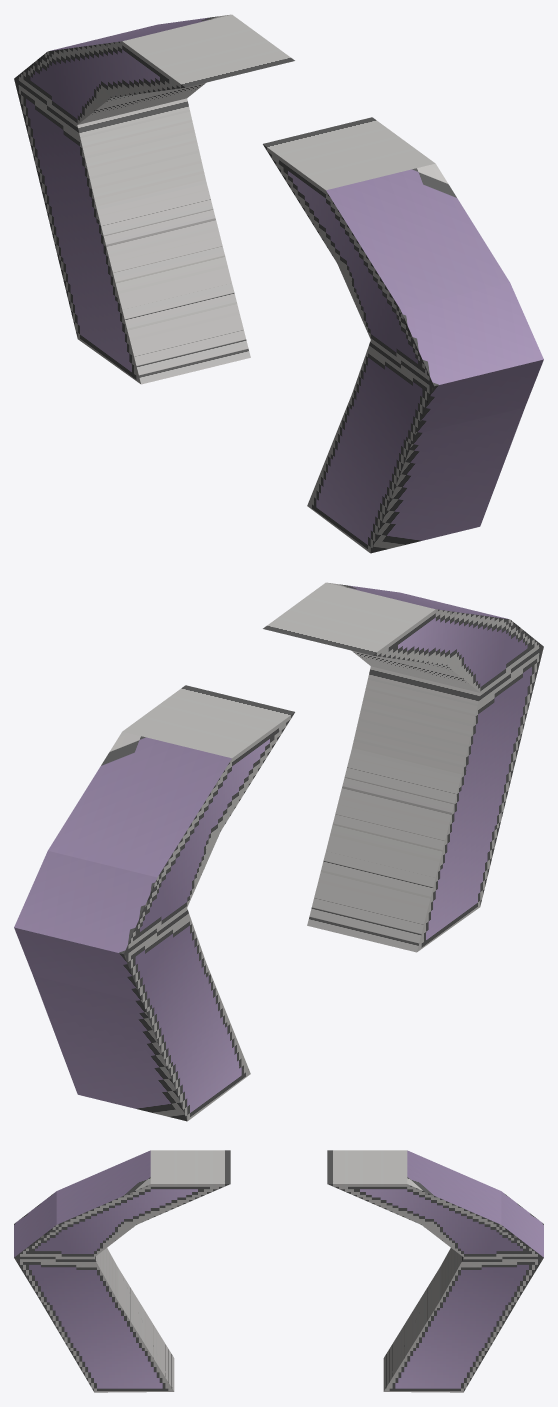
Rendered from Stabalizers.glb.
3 renders of one model, top to bottom at view 1: azimuth 30°, elevation 25°; view 2: azimuth 150°, elevation 25°; view 3: azimuth 270°, elevation 25°, orthographic. The views are drawn at different scales.
Visible parts, largest first — view 1: Cube.001; view 2: Cube.001; view 3: Cube.001.
Boxes of the visible parts, x1,y1,x2,y2 form: Cube.001: [14, 14, 543, 553]; Cube.001: [14, 582, 543, 1121]; Cube.001: [14, 1150, 543, 1392].
Size of the model in its own units: 1.07 by 3.09 by 7.12.
Materials: 2 (2 with a texture image).
